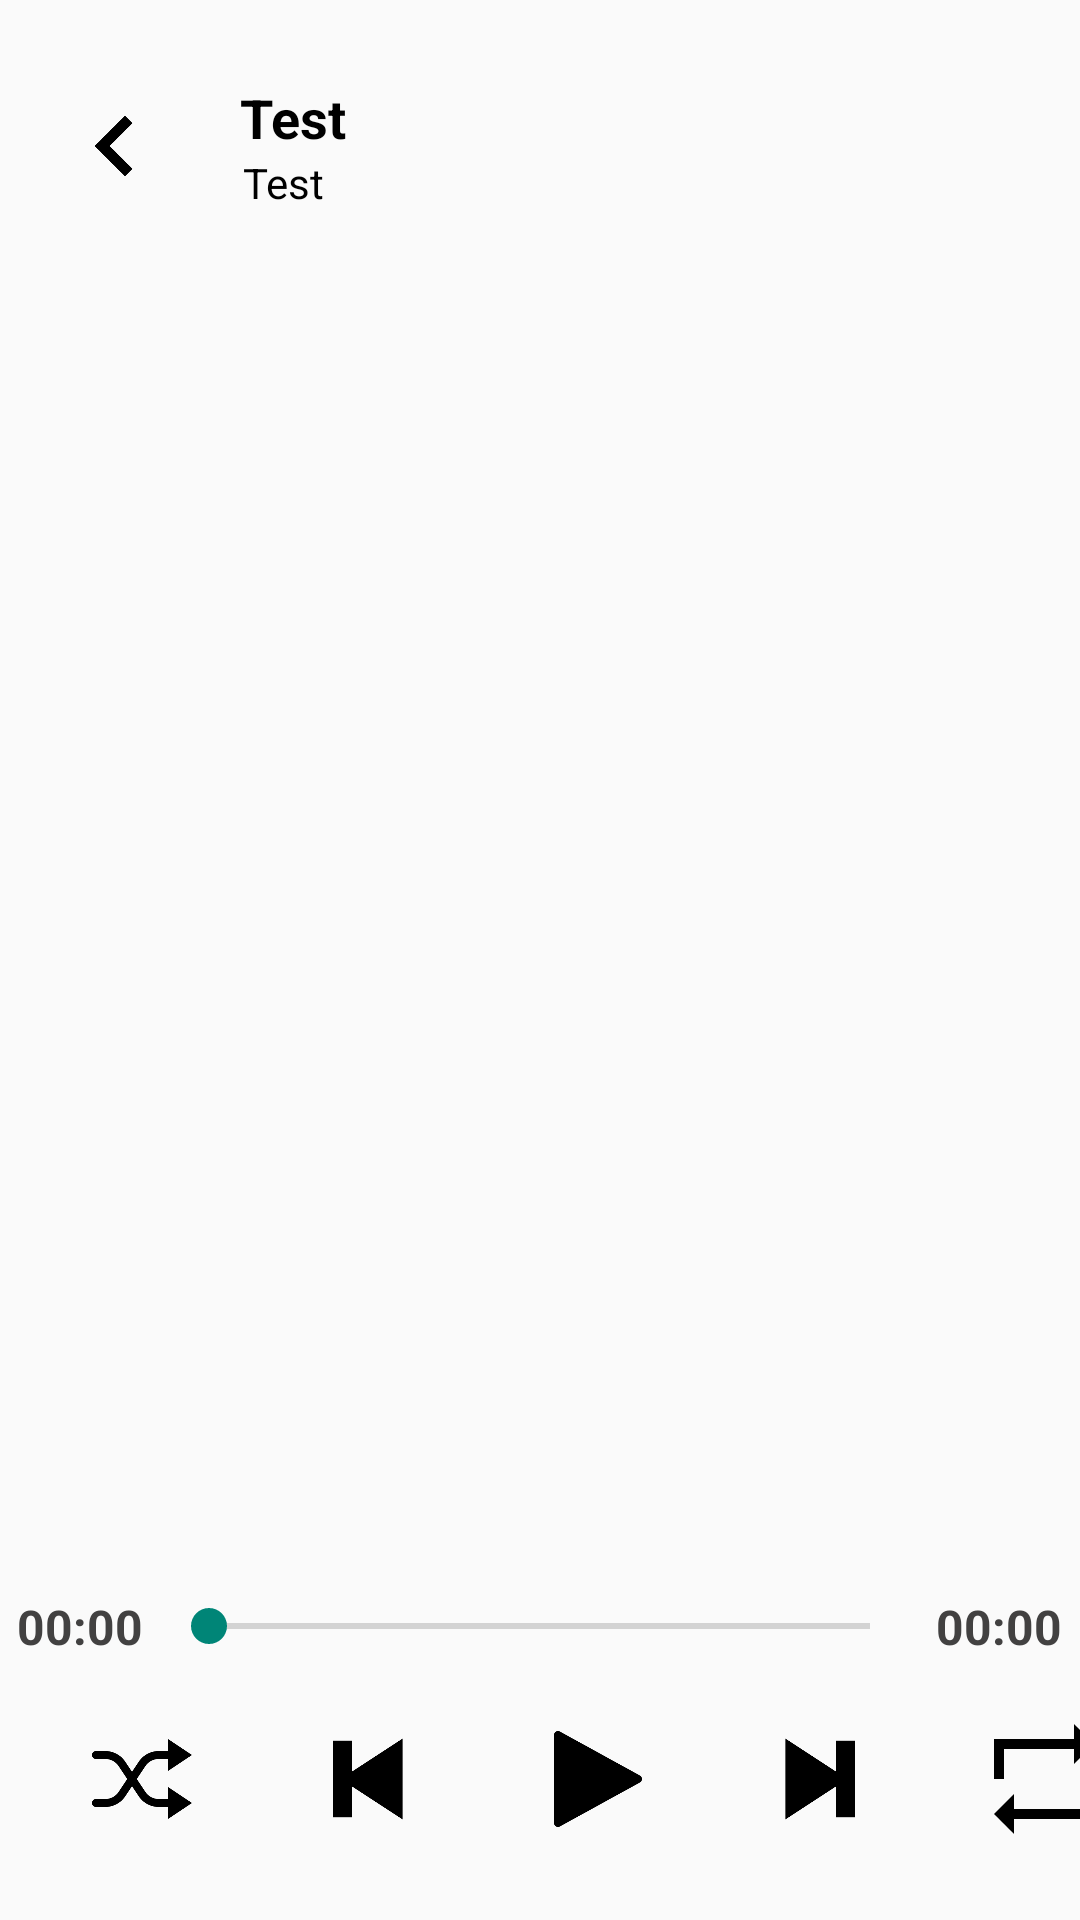

Locate icon controls on the screen. Image size 1080px x 1920px, boxes as (x1, y1, x2, y2).
back: (95, 116, 132, 176)
play: (554, 1731, 642, 1827)
shuffle: (92, 1739, 192, 1819)
